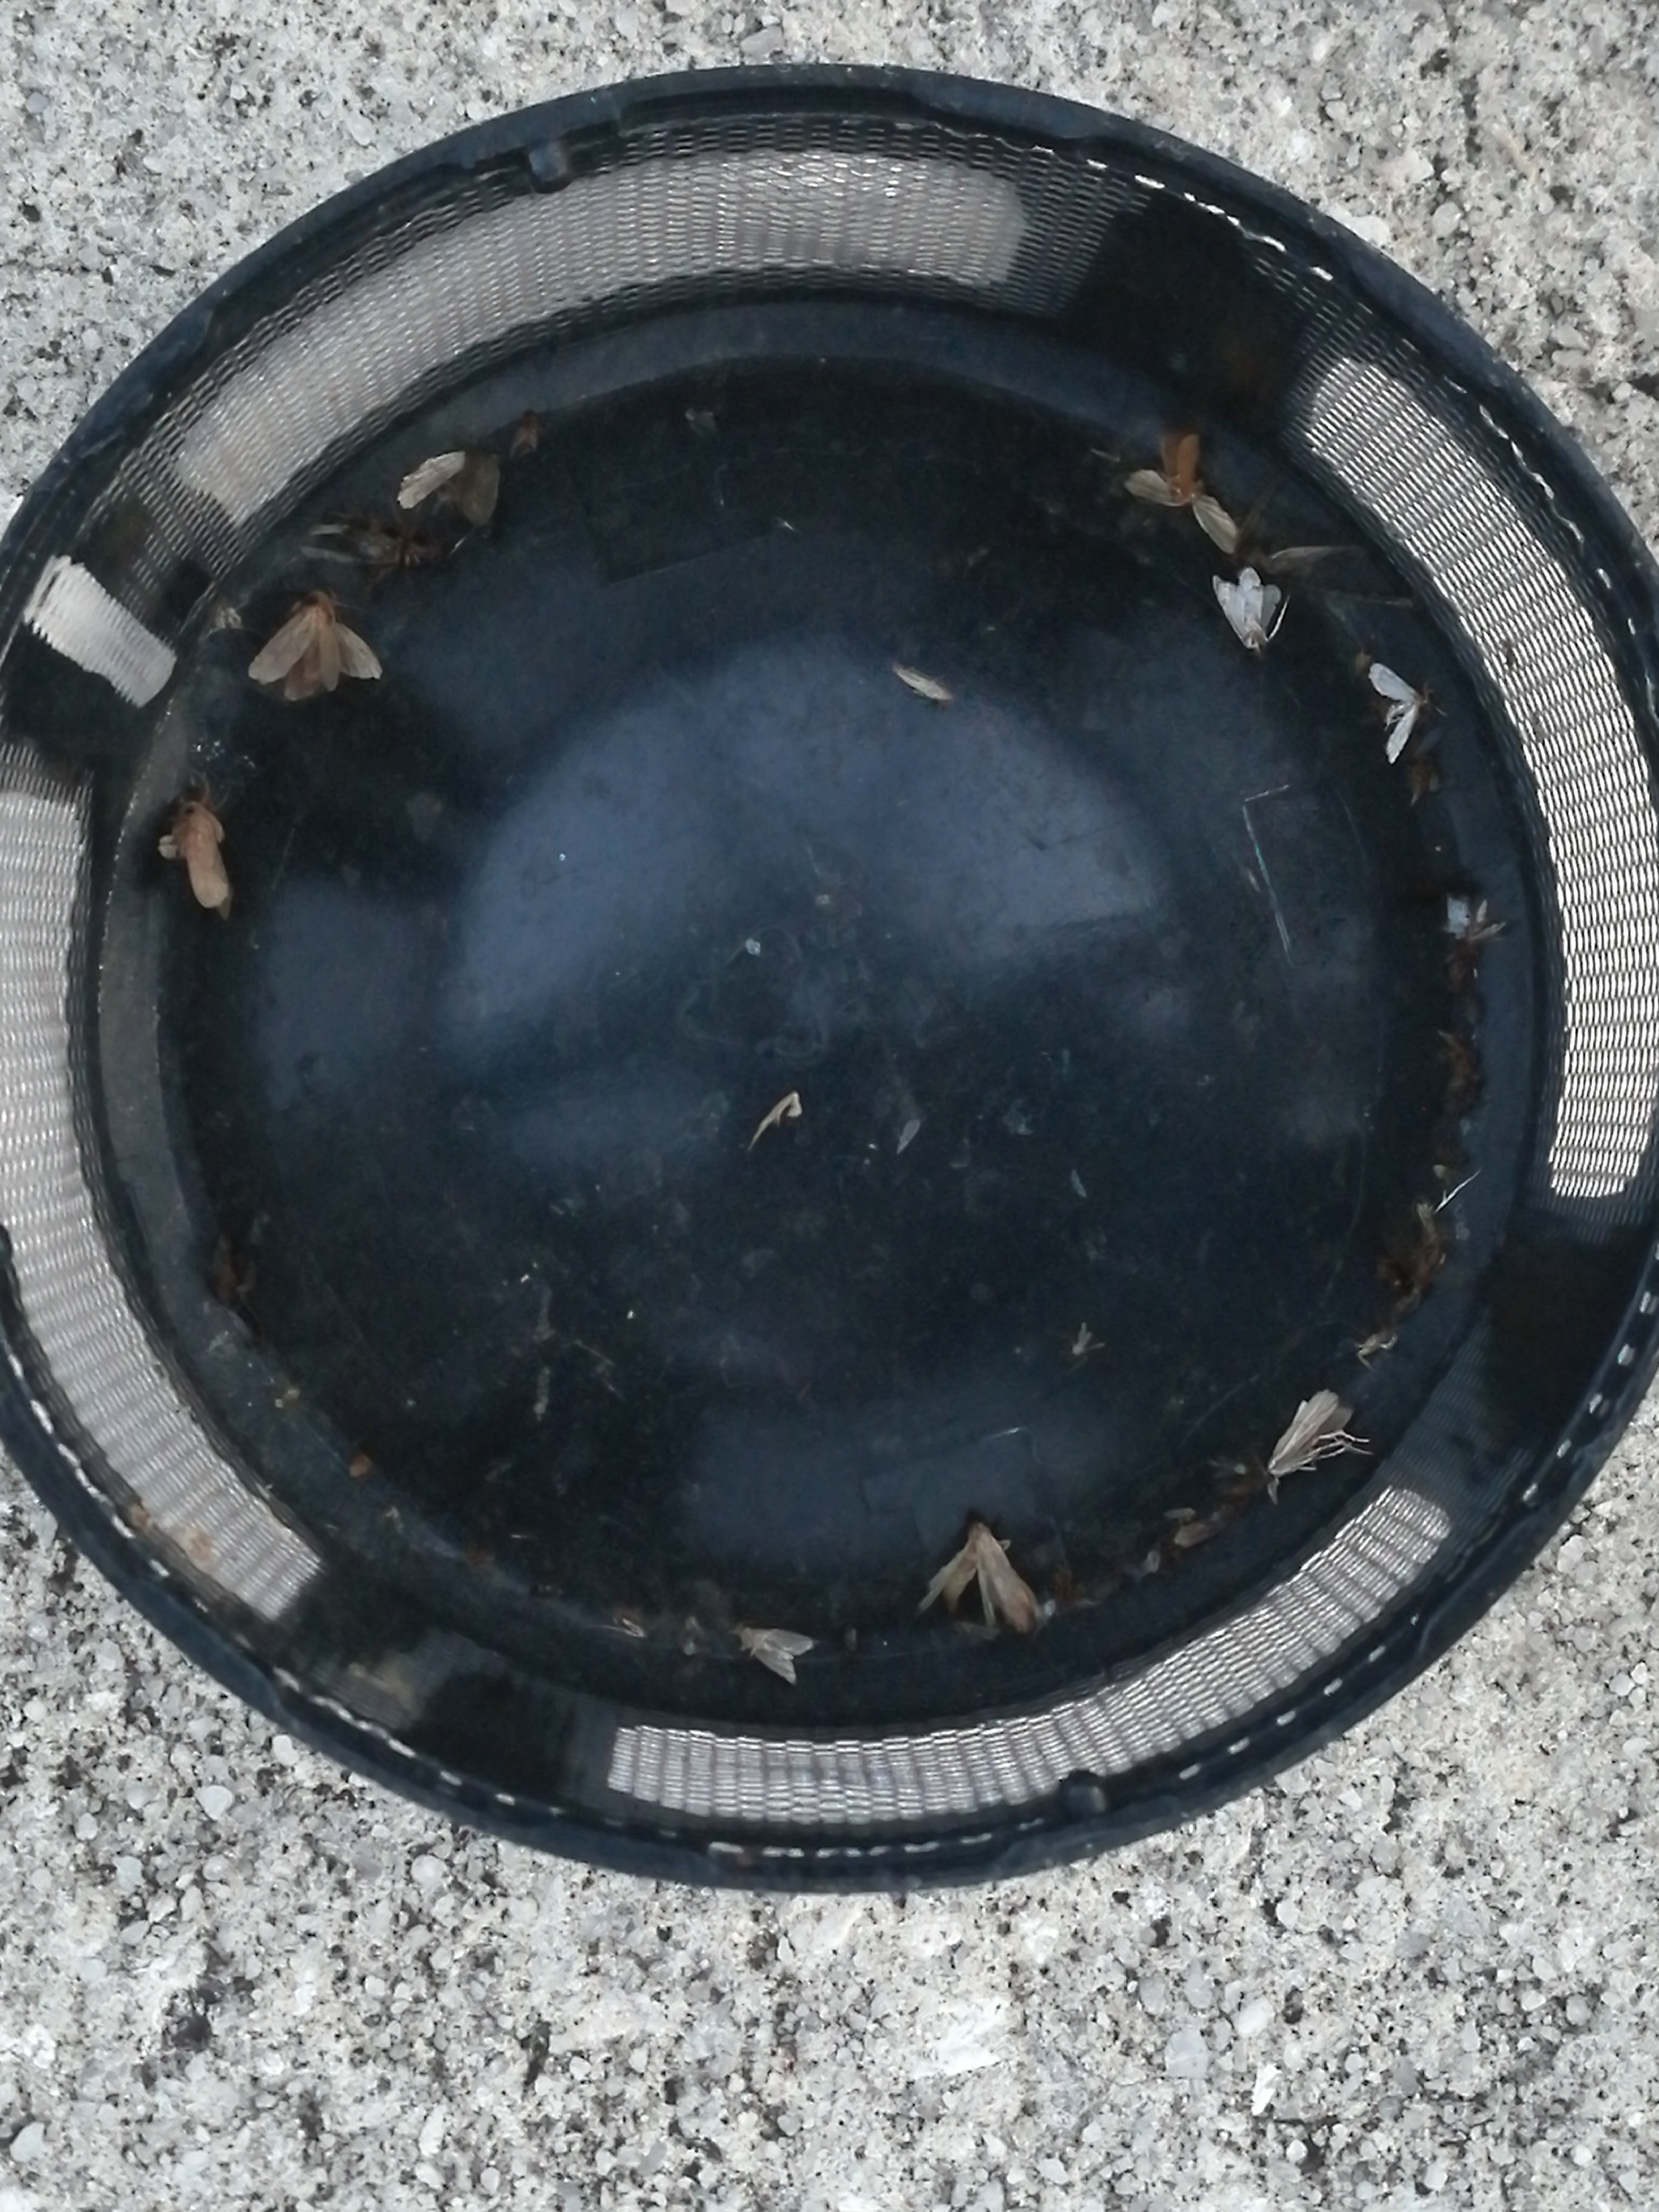mosquito: (1270, 1390, 1358, 1472)
moth: (253, 590, 380, 695), (922, 1521, 1039, 1632), (1129, 428, 1237, 549), (1211, 566, 1277, 651), (1370, 667, 1425, 765), (178, 803, 228, 907), (739, 1623, 810, 1684)
